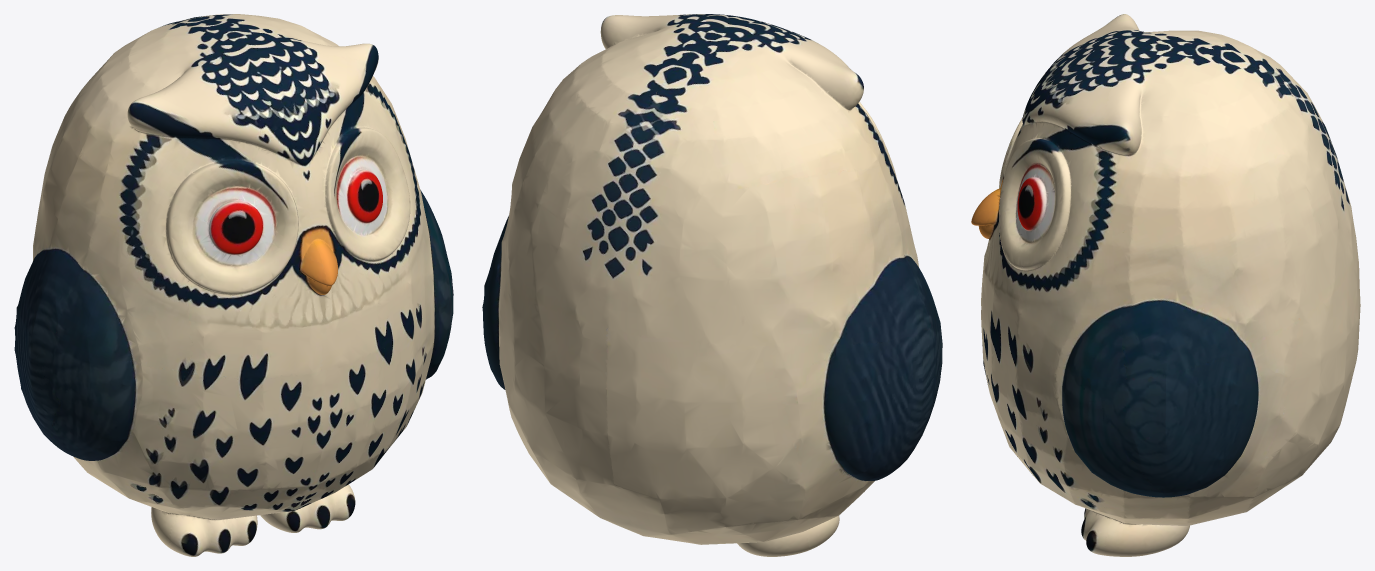
Rendered from owl-soft-deny.glb.
3 views of the same model, side by side, from view 1: azimuth 30°, elevation 25°; view 2: azimuth 150°, elevation 25°; view 3: azimuth 270°, elevation 25° (orthographic). The views are drawn at different scales.
Parts seen in each view (by area): view 1: mesh_node; view 2: mesh_node; view 3: mesh_node.
Part boxes in pixels (box(x1,y1,x2,y2)): mesh_node: box(14, 14, 453, 556); mesh_node: box(482, 14, 942, 556); mesh_node: box(971, 14, 1360, 556).
Bounding box in the file's own units: 1.67 × 1.9 × 1.42.
1 material, 1 textured.
